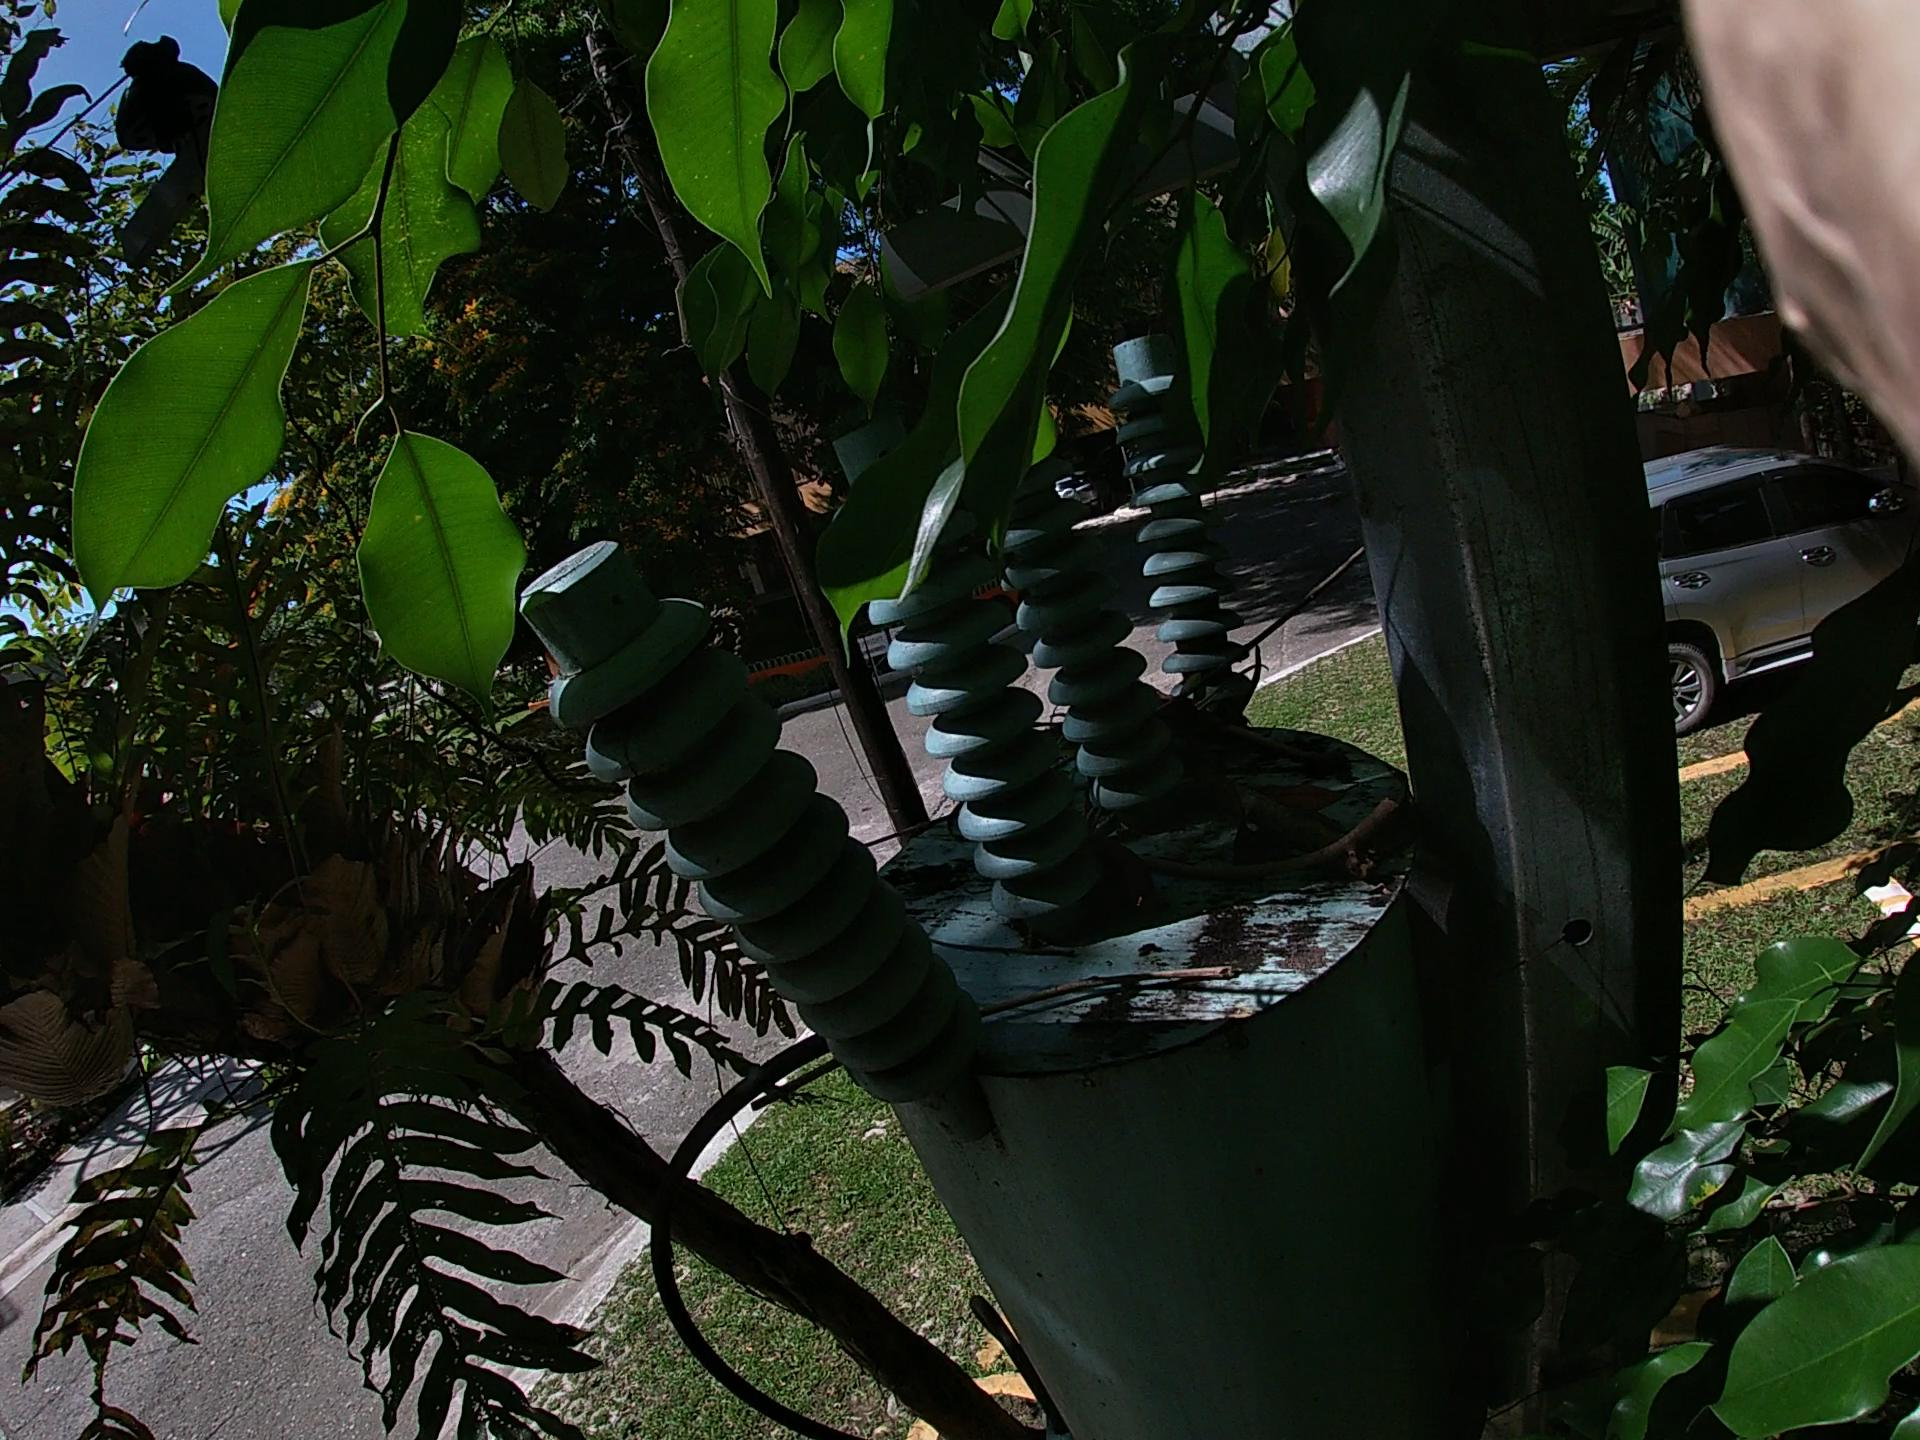leaf: (1178, 791, 1332, 891)
tree branch: (351, 483, 1380, 1417), (703, 961, 1203, 1195), (928, 815, 1522, 900), (1179, 750, 1359, 895)
